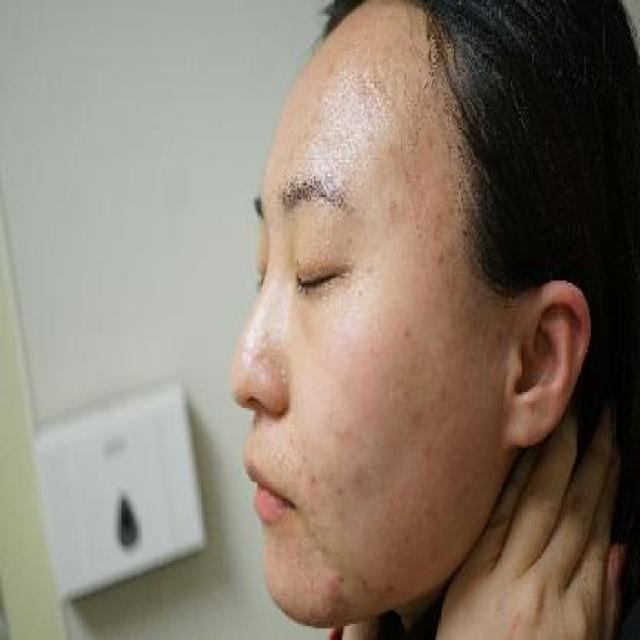acne: (310, 570, 358, 624), (383, 190, 403, 220), (352, 283, 370, 306)
